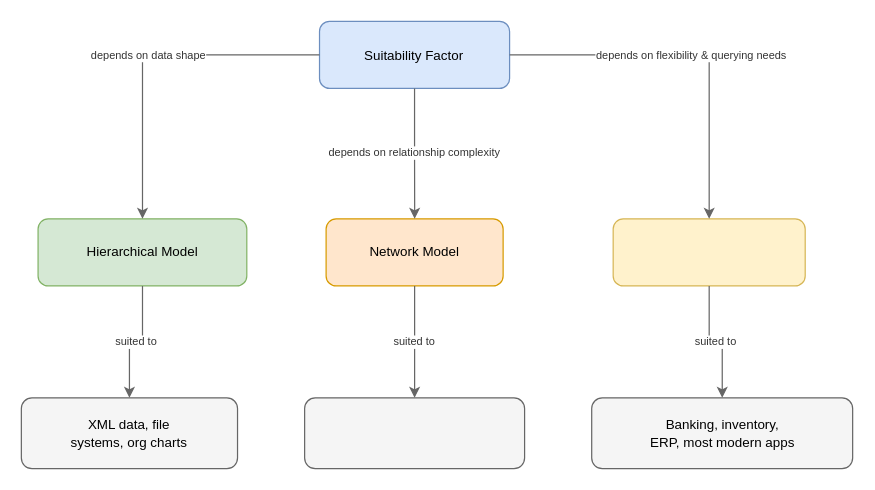
Image size: 875x490. Some labels were removed from this diagram. The shapes that lost their labels are listed below. From the top down, each one's centre as x and y in pixels, then its label:
At point 708,252: "Relational Model".
At point 414,433: "Legacy airline reservation systems".
